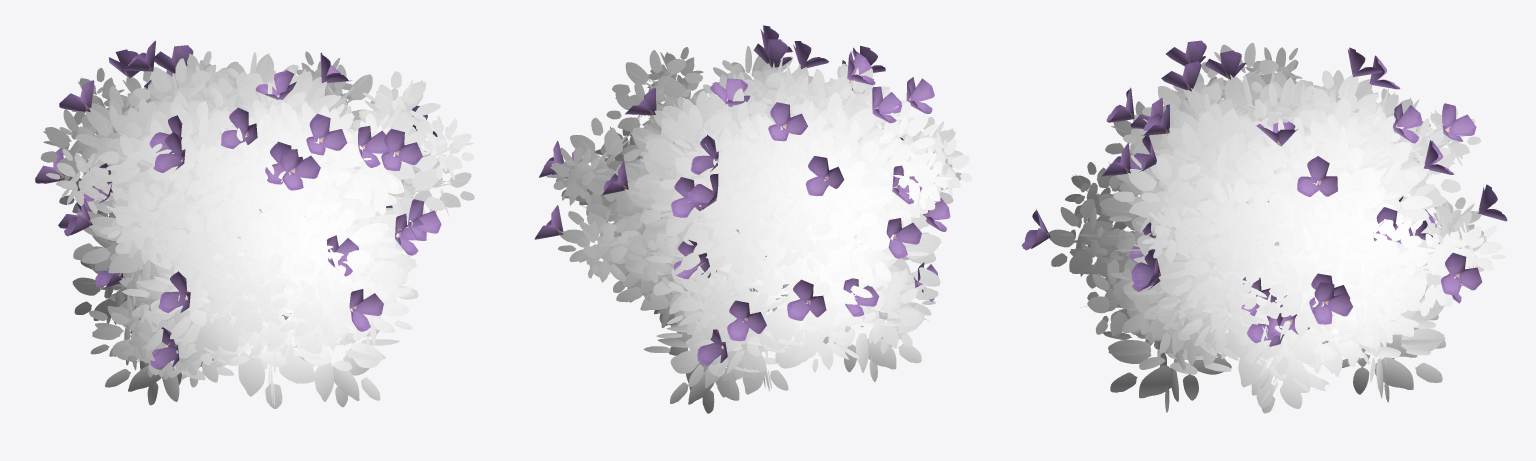
File: Bush_Common_Flowers.glb
The picture shows the model from 3 angles, left to right: view 1: azimuth 30°, elevation 25°; view 2: azimuth 150°, elevation 25°; view 3: azimuth 270°, elevation 25°; orthographic projection. The views are drawn at different scales.
Parts seen in each view (by area): view 1: Bush_Common_Flowers; view 2: Bush_Common_Flowers; view 3: Bush_Common_Flowers.
Part boxes in pixels (bbox=[...]): Bush_Common_Flowers: bbox=[35, 40, 474, 408]; Bush_Common_Flowers: bbox=[534, 25, 972, 413]; Bush_Common_Flowers: bbox=[1021, 40, 1507, 413].
Size of the model in its own units: 1.91 by 1.58 by 1.97.
Materials: 2 (2 with a texture image).
